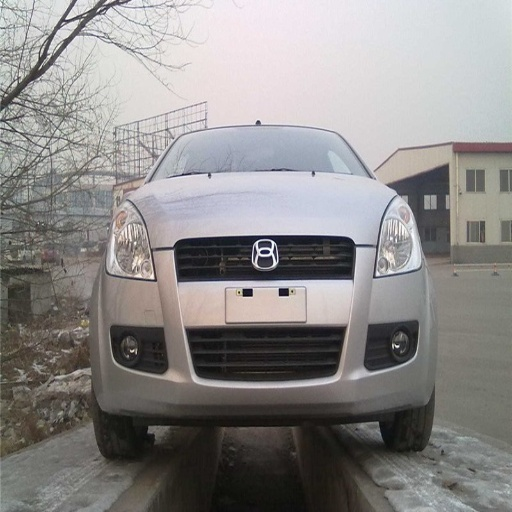front_bumper: (99, 239, 432, 428), (216, 437, 315, 509)
front_right_light: (106, 195, 155, 281)
